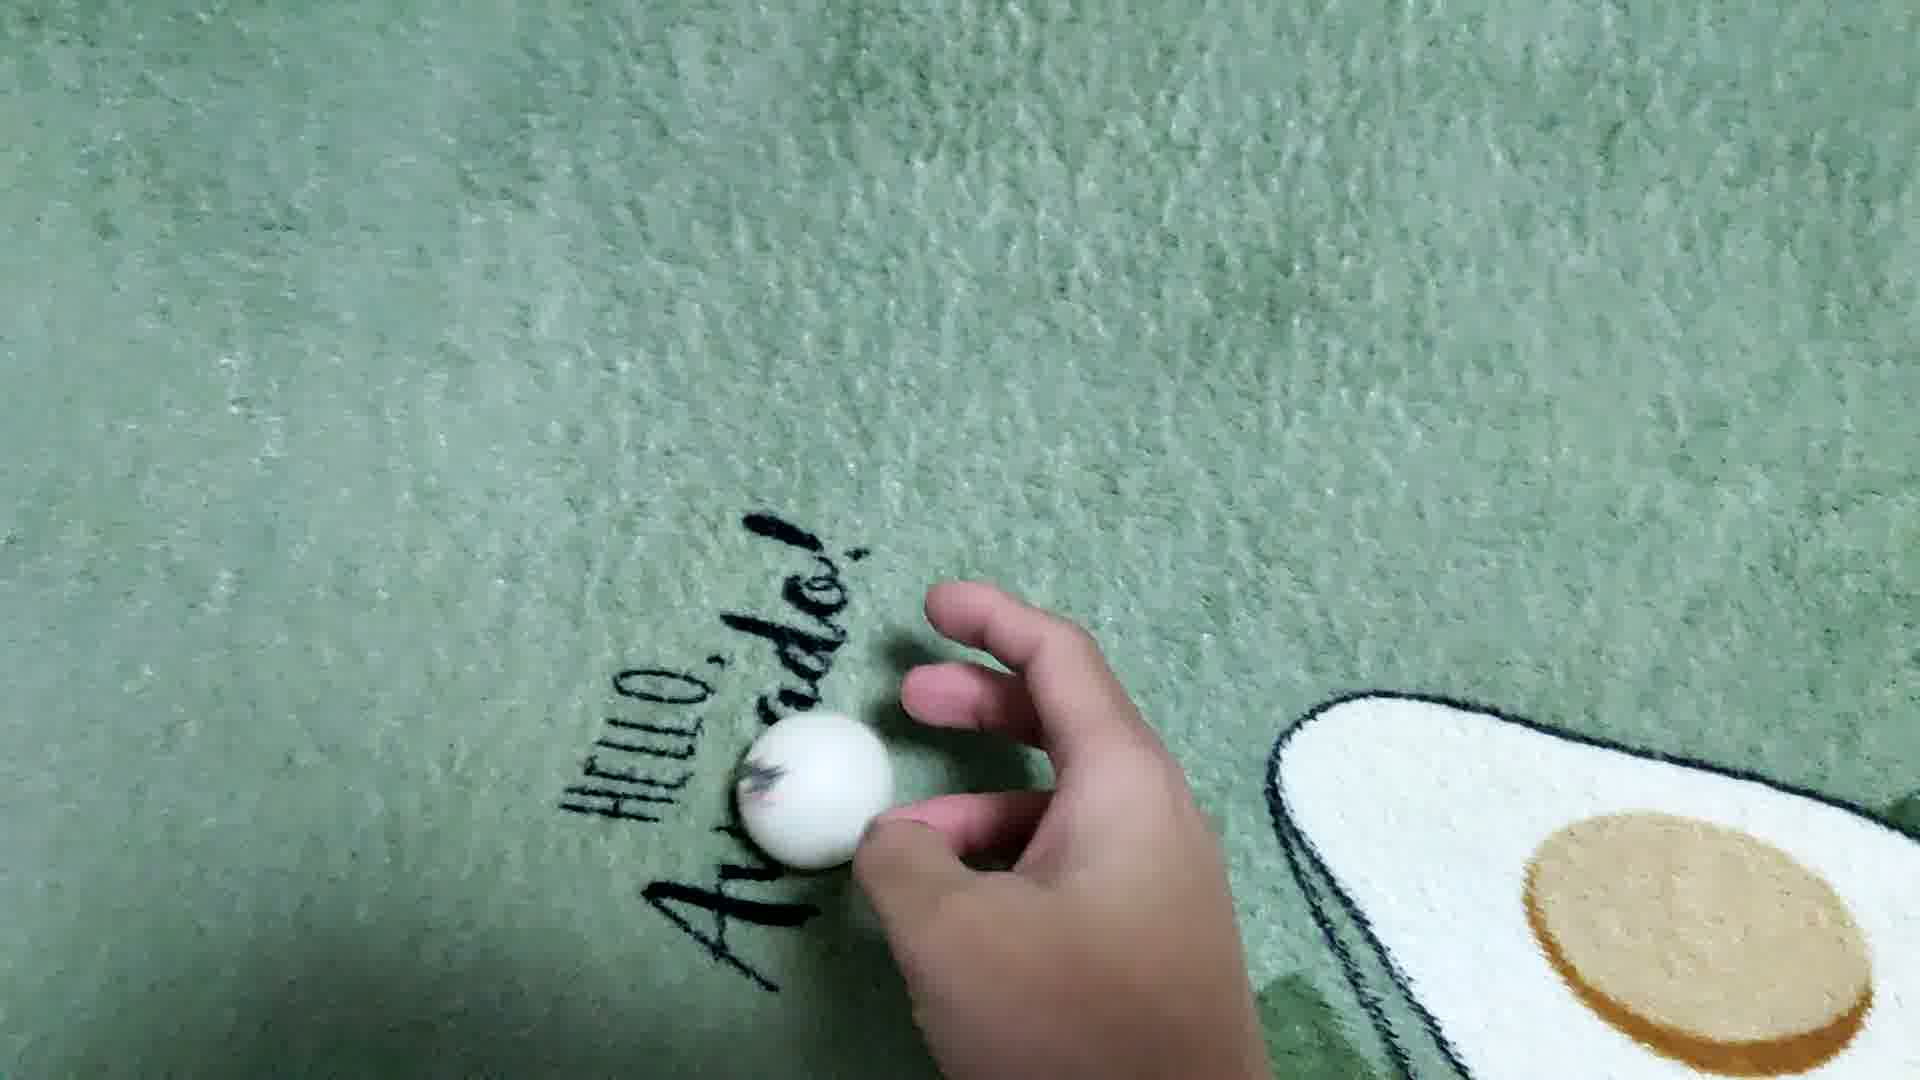Ball: (733, 711, 905, 866)
